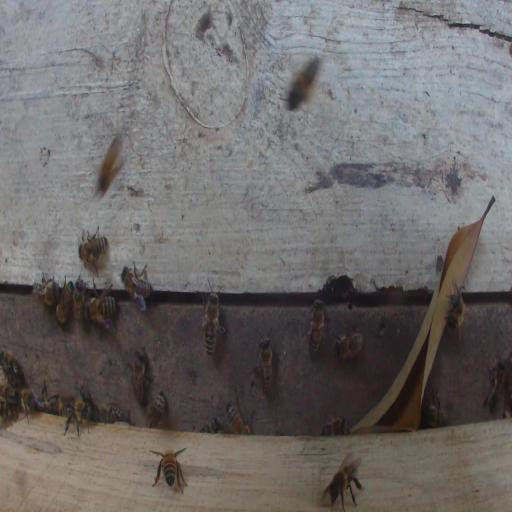bee: (321, 455, 364, 512), (200, 280, 228, 357), (287, 55, 320, 110), (96, 133, 123, 194), (120, 260, 152, 311), (153, 447, 188, 493), (78, 225, 109, 274), (483, 360, 509, 413), (128, 348, 151, 404), (446, 280, 465, 341), (63, 396, 90, 438), (307, 298, 325, 359), (85, 292, 117, 324), (334, 329, 364, 361), (55, 275, 73, 327), (258, 334, 273, 395), (226, 402, 252, 435), (36, 273, 59, 307), (1, 348, 21, 385), (147, 391, 166, 428), (98, 403, 131, 424), (17, 387, 35, 423), (35, 393, 64, 414), (1, 384, 18, 419), (73, 277, 85, 326), (320, 416, 349, 436), (426, 398, 439, 430)
